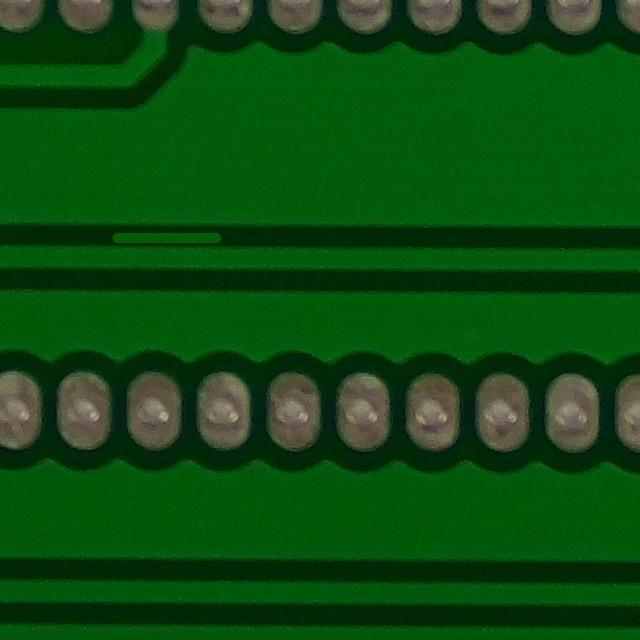spurious_copper: (93, 216, 238, 266)
